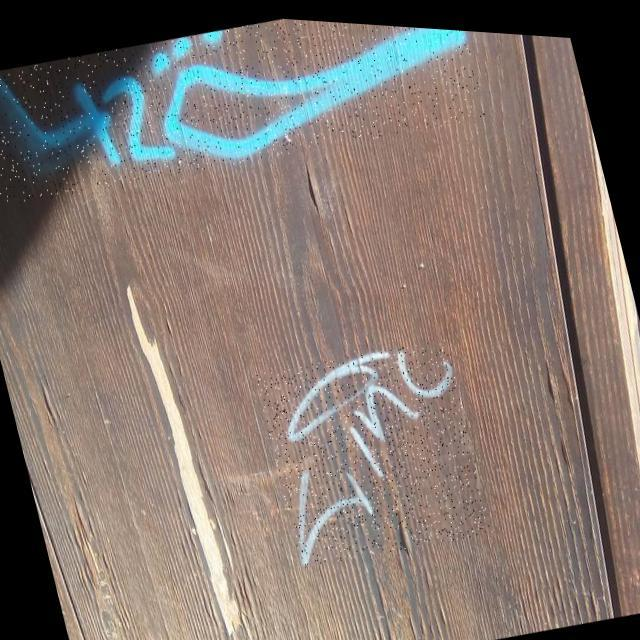-: (0, 0, 486, 238), (254, 322, 493, 574)
